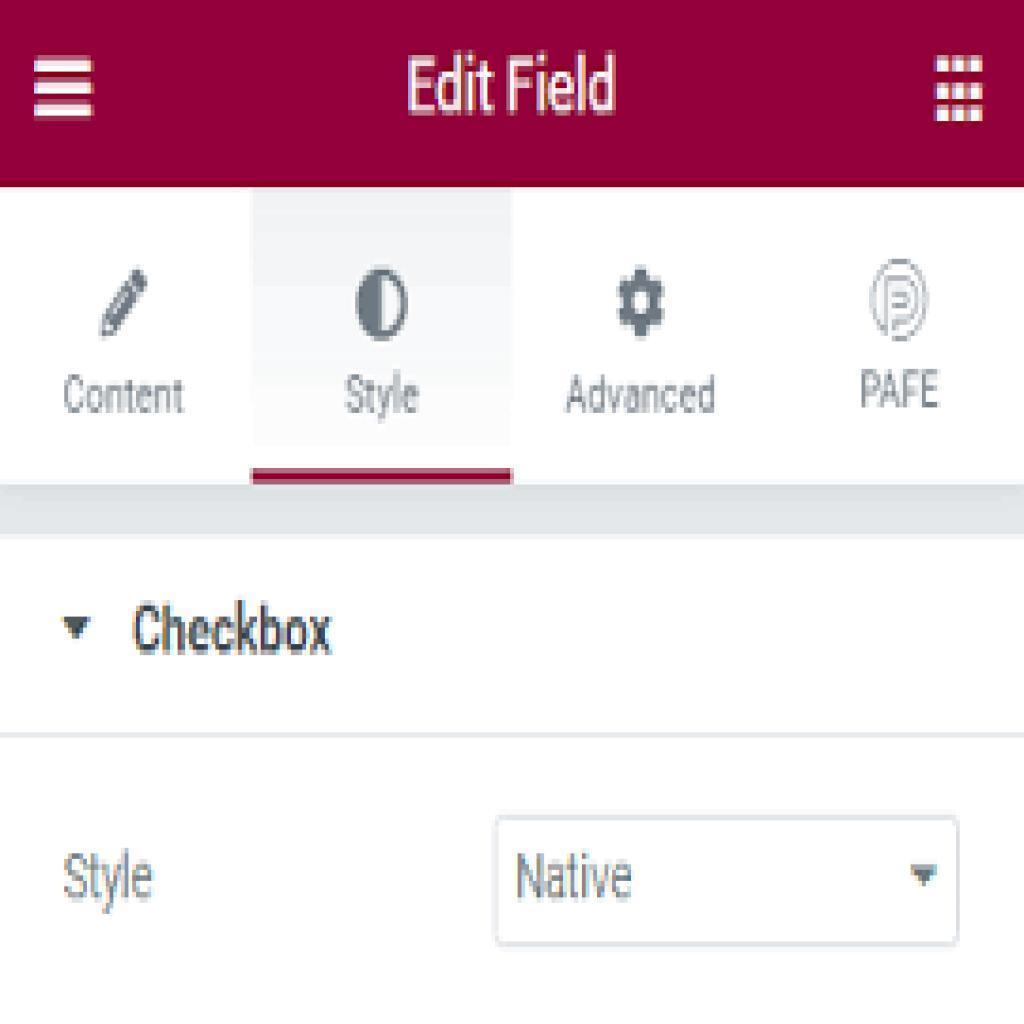dropdown: (494, 815, 960, 947)
icon: (866, 250, 929, 349), (87, 260, 164, 338), (31, 47, 97, 129), (347, 266, 416, 344), (930, 46, 992, 132), (613, 260, 673, 343), (53, 606, 100, 648)
label: (120, 594, 345, 664), (51, 834, 170, 913)
